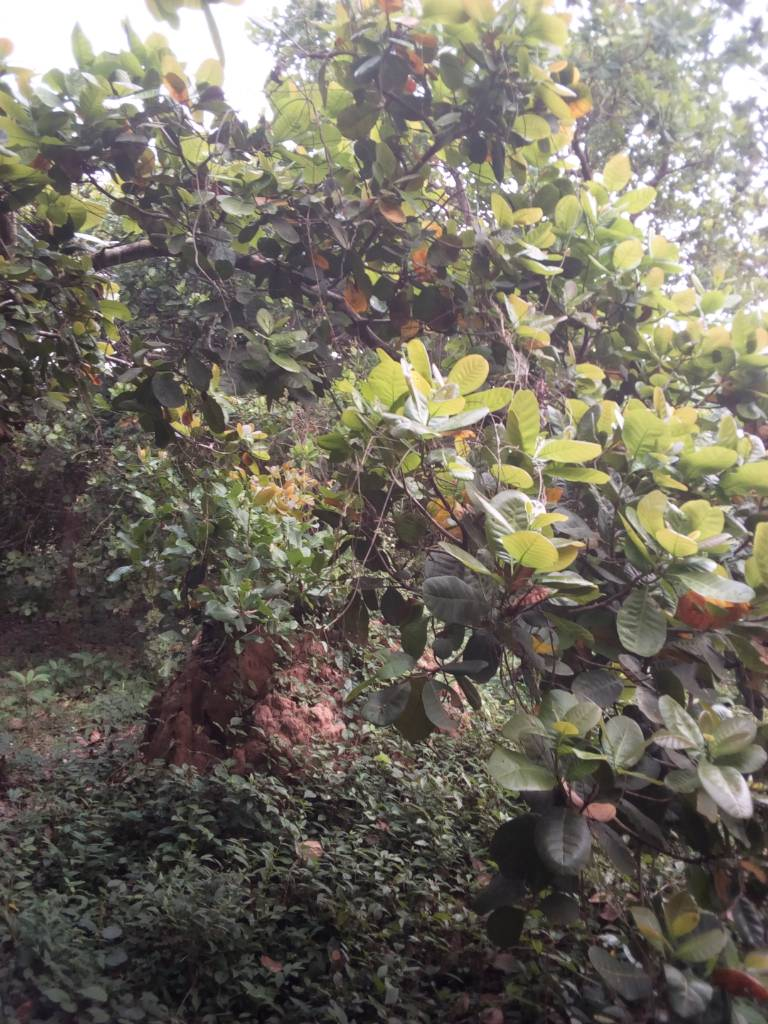Termites: (157, 647, 335, 755)
